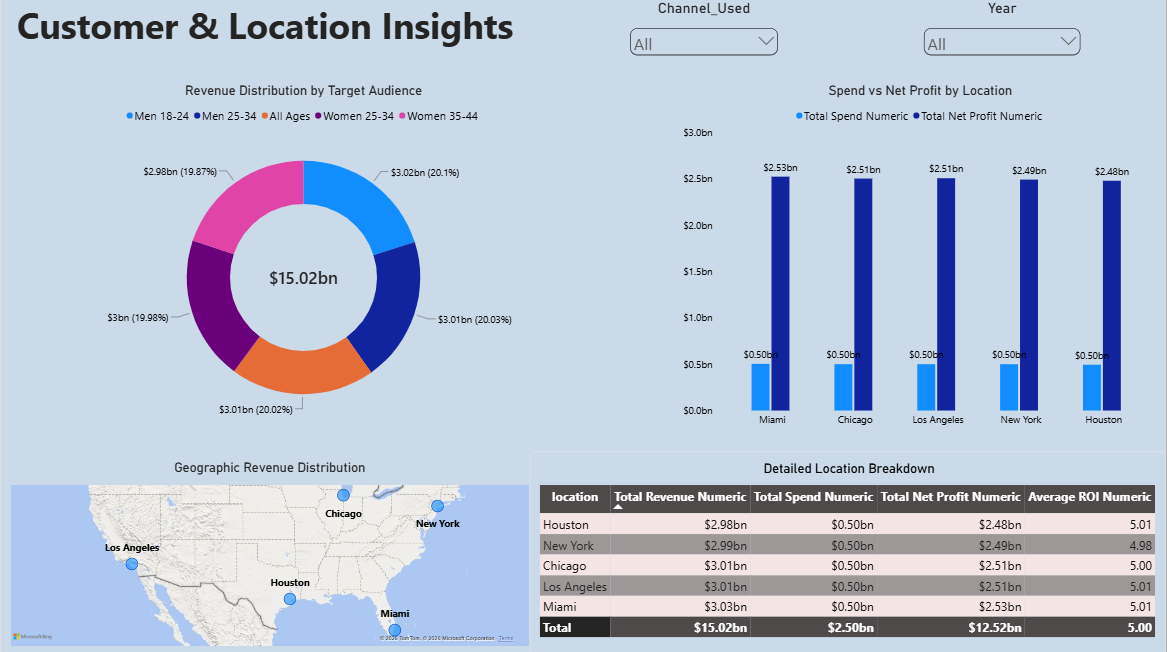

The page's visual inventory and layout, read from the dashboard file:
{"tool":"powerbi","page":{"name":"Customer & Location Insights","canvas":[1920,1080],"ordinal":2},"visuals":[{"type":"slicer","title":"Channel_Used","fields":{"Values":["public marketing_campaigns.channel_used"]},"box":[1031.2,0,253.2,98.8],"z":1000},{"type":"textbox","box":[0,2.1,885.1,100.9],"z":3000},{"type":"donutChart","title":"Revenue Distribution by Target Audience","fields":{"Category":["public marketing_campaigns.target_audience"],"Y":["_All_Measures.Total Revenue Numeric"]},"box":[0,123.5,996.2,601],"z":4000},{"type":"clusteredColumnChart","title":"Spend vs Net Profit by Location","fields":{"Category":["public marketing_campaigns.location"],"Y":["_All_Measures.Total Spend Numeric","_All_Measures.Total Net Profit Numeric"]},"box":[1107.4,123.5,813,601],"z":5000},{"type":"pivotTable","title":"Detailed Location Breakdown","fields":{"Rows":["public marketing_campaigns.location"],"Values":["_All_Measures.Total Revenue Numeric","_All_Measures.Total Spend Numeric","_All_Measures.Total Net Profit Numeric","_All_Measures.Average ROI Numeric"]},"box":[870.7,745.1,1049.7,335.5],"z":6000},{"type":"map","title":"Geographic Revenue Distribution","fields":{"Category":["public marketing_campaigns.location"],"Size":["_All_Measures.Total Revenue Numeric"]},"box":[0,745.1,885.1,335.5],"z":10000},{"type":"slicer","title":"Year","fields":{"Values":["Dim_Date.Year"]},"box":[1514.9,0,267.1,101],"z":10001}]}

Visuals, with their boxes in screenshot pixels (x1, y1, x2, y2), scaled from the page's 1920x1080 canvas onto the 1167x652 screenshot:
"Channel_Used" slicer: (x1=627, y1=0, x2=781, y2=60)
textbox: (x1=0, y1=1, x2=538, y2=62)
"Revenue Distribution by Target Audience" donutChart: (x1=0, y1=75, x2=606, y2=437)
"Spend vs Net Profit by Location" clusteredColumnChart: (x1=673, y1=75, x2=1166, y2=437)
"Detailed Location Breakdown" pivotTable: (x1=529, y1=450, x2=1166, y2=651)
"Geographic Revenue Distribution" map: (x1=0, y1=450, x2=538, y2=651)
"Year" slicer: (x1=921, y1=0, x2=1083, y2=61)
